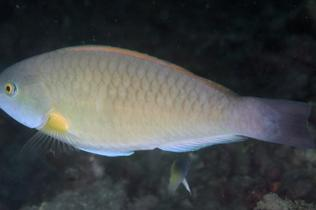Scaridae -Parrotfishes-: (0, 31, 316, 159)
